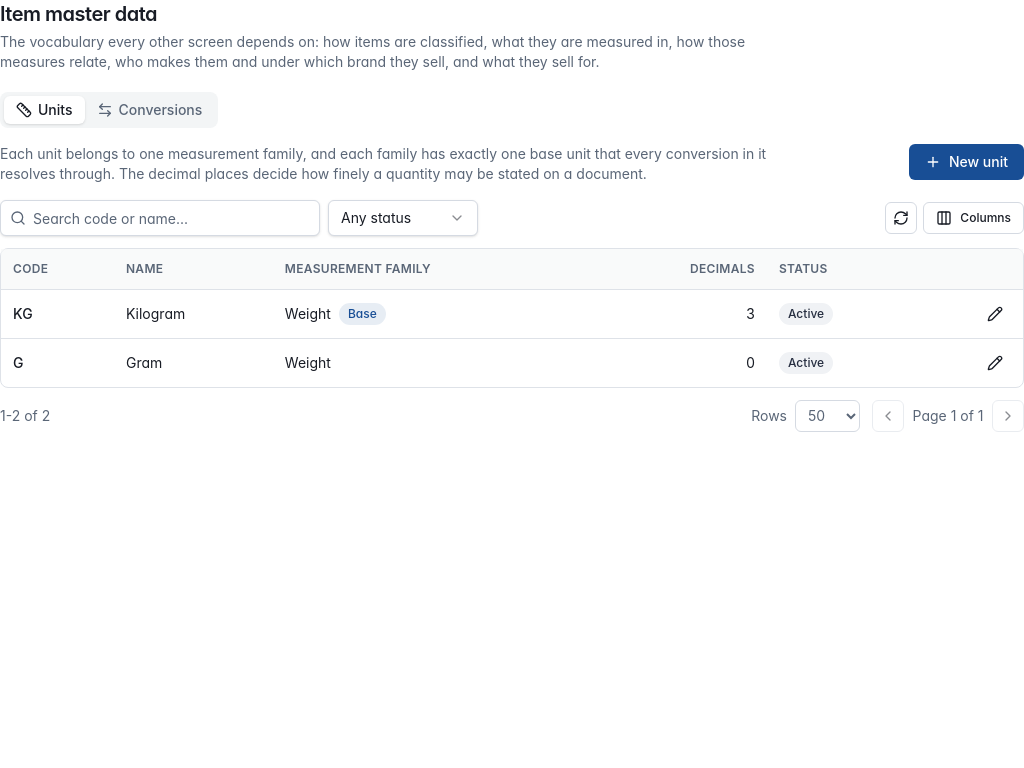
it: units of measure › locks the base flag on the unit that already holds it
The image size is (1024, 768).
Expected: the text "Kilogram" is shown, 114,289 -> 273,338
Click the button named "Edit KG". click: x=995, y=314
box: 979,298 -> 1011,330
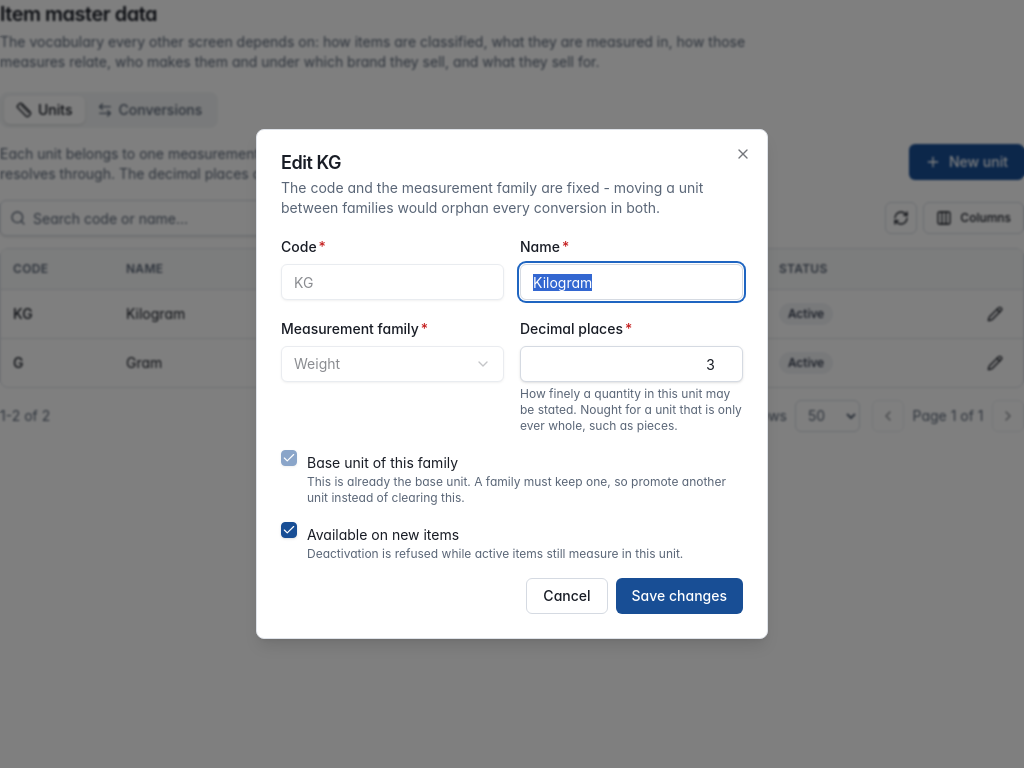
Expected: the checkbox named "base unit of this family" next to "Base unit of this family" is disabled, 281,450 -> 297,466
Expected: the text "promote another unit instead of clearing this" is shown, 307,474 -> 726,505
